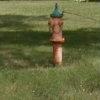Hydrant: (38, 4, 79, 72)
